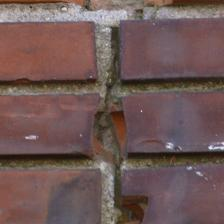Crack: (43, 22, 88, 200)
